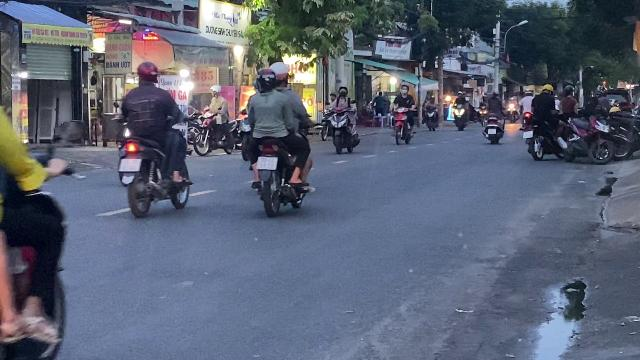helmet: (252, 66, 276, 92), (268, 60, 290, 88), (134, 60, 158, 84)
licenseplate: (119, 159, 141, 171), (256, 157, 278, 169)
motorcyclist: (114, 60, 194, 217), (240, 61, 316, 216)
